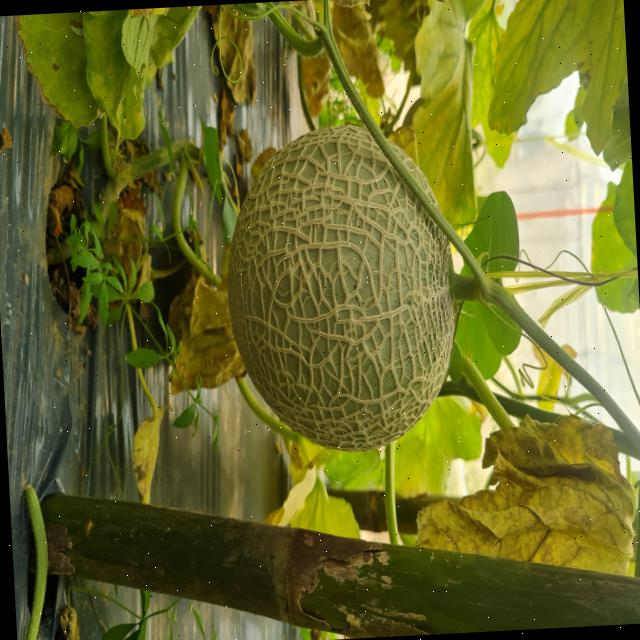melon: (226, 125, 455, 452)
